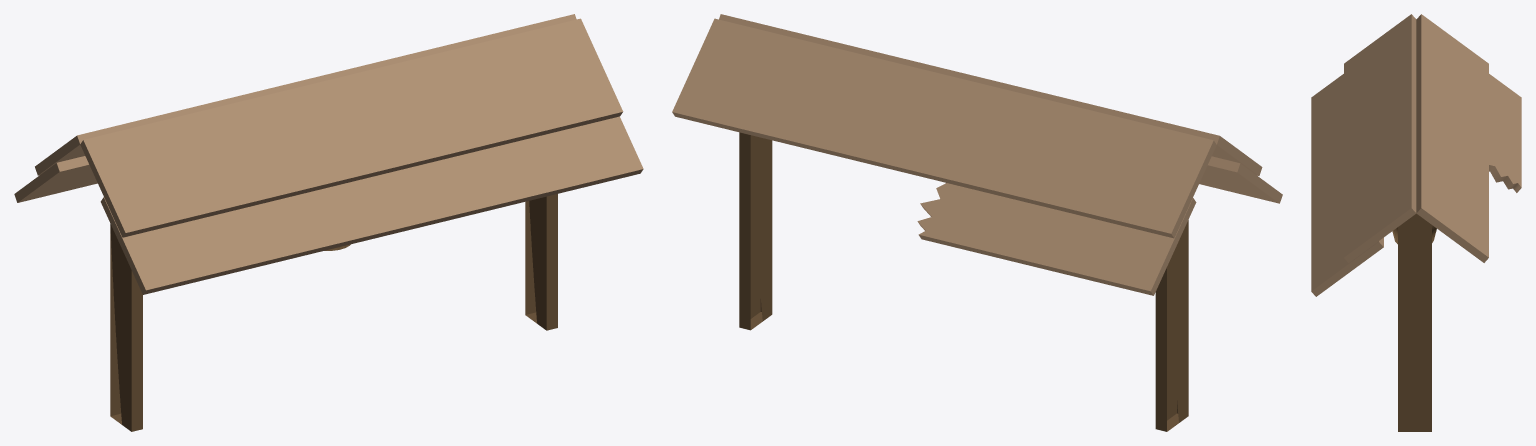
File: Well_topper.fbx
3 views of the same model, side by side, from view 1: azimuth 30°, elevation 25°; view 2: azimuth 150°, elevation 25°; view 3: azimuth 270°, elevation 25° (orthographic). The views are drawn at different scales.
Parts seen in each view (by area): view 1: pPipe2; view 2: pPipe2; view 3: pPipe2.
Part boxes in pixels (x1,y1,x2,y2): pPipe2: [14, 14, 643, 431]; pPipe2: [672, 14, 1282, 431]; pPipe2: [1311, 14, 1521, 431].
Size of the model in its own units: 17.81 by 10.11 by 8.17.
6 materials, 4 textured.
